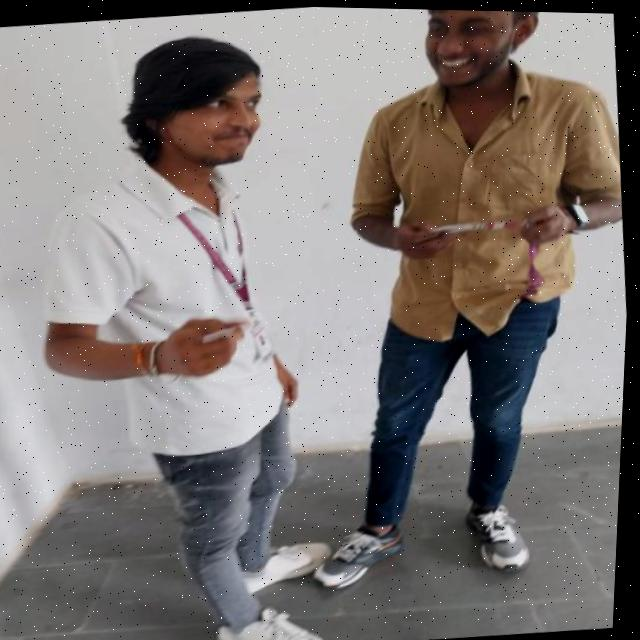id_card: (154, 166, 296, 368)
